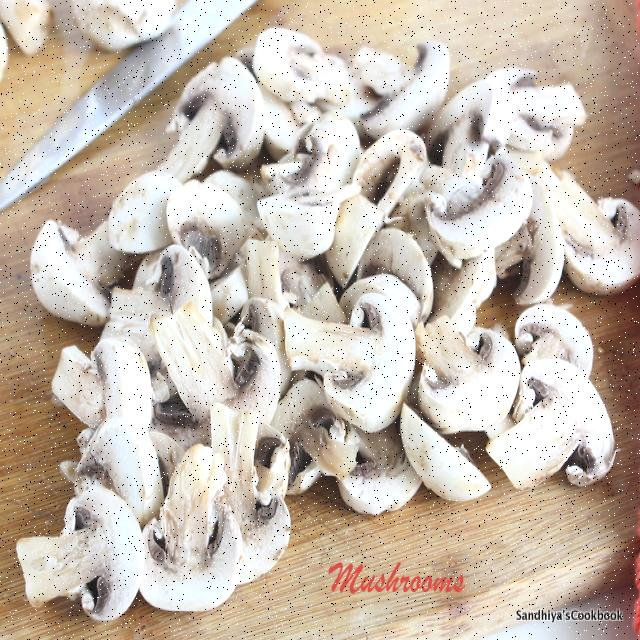Mushroom: (0, 178, 253, 612), (421, 134, 622, 554), (274, 286, 415, 436)
